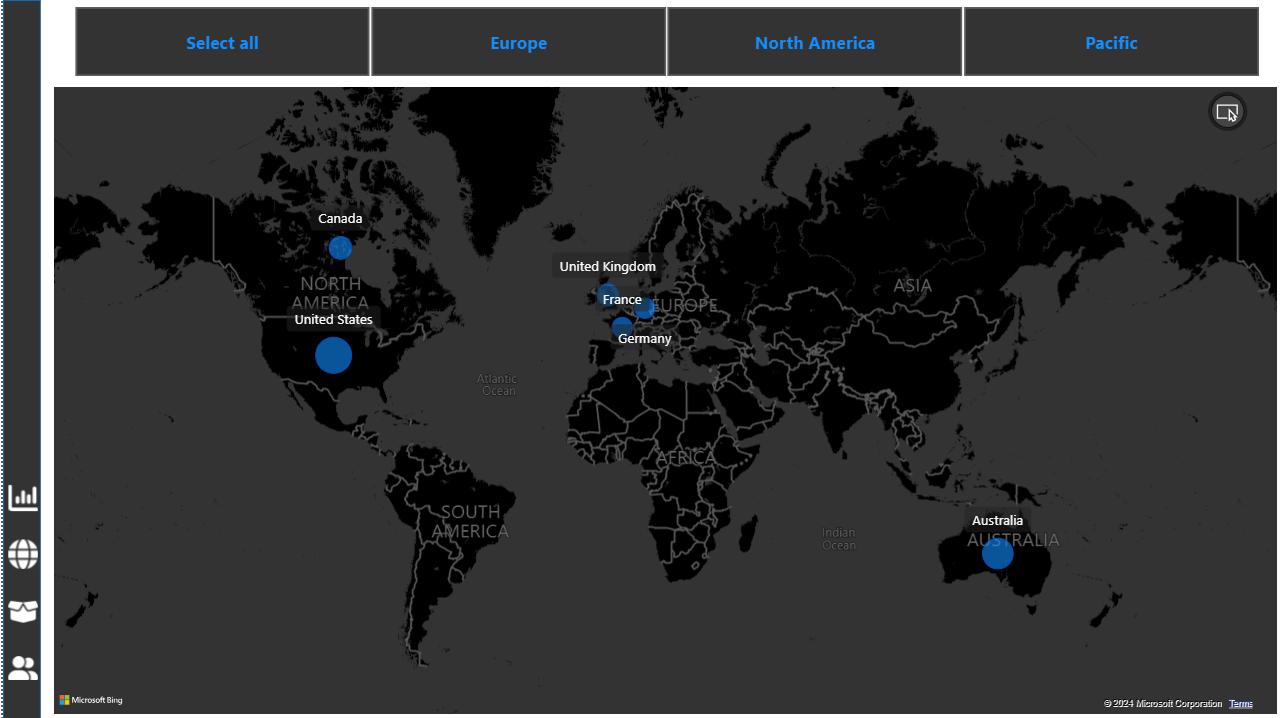

The page's visual inventory and layout, read from the dashboard file:
{"tool":"powerbi","page":{"name":"Map","canvas":[1280,720],"ordinal":1},"visuals":[{"type":"shape","box":[0,0,37.9,720],"z":0},{"type":"actionButton","box":[1.2,478,37.9,40.3],"z":0,"group":"g1"},{"type":"map","fields":{"Category":["Territory Lookup.Country"],"Size":["Measure Table.Total Orders"]},"box":[46.5,83.1,1233.4,636.9],"z":1000},{"type":"actionButton","box":[1.2,591.3,37.9,40.3],"z":1000,"group":"g1"},{"type":"slicer","fields":{"Values":["Territory Lookup.Continent"]},"box":[46.5,0,1233.4,83.1],"z":2000},{"type":"actionButton","box":[1.2,647.9,37.9,40.3],"z":2000,"group":"g1"},{"type":"actionButton","box":[1.2,534.6,37.9,40.3],"z":3000,"group":"g1"},{"type":"group","id":"g1","title":"Group 1","box":[1.2,478,37.9,210.3],"z":3000}]}

Visuals, with their boxes in screenshot pixels (x1, y1, x2, y2):
shape: crop(0, 3, 37, 711)
actionButton: crop(1, 473, 38, 513)
map - Territory Lookup.Country x Measure Table.Total Orders: crop(46, 85, 1257, 711)
actionButton: crop(1, 585, 38, 624)
slicer - Territory Lookup.Continent: crop(46, 3, 1257, 85)
actionButton: crop(1, 640, 38, 680)
actionButton: crop(1, 529, 38, 568)
"Group 1" group: crop(1, 473, 38, 680)
